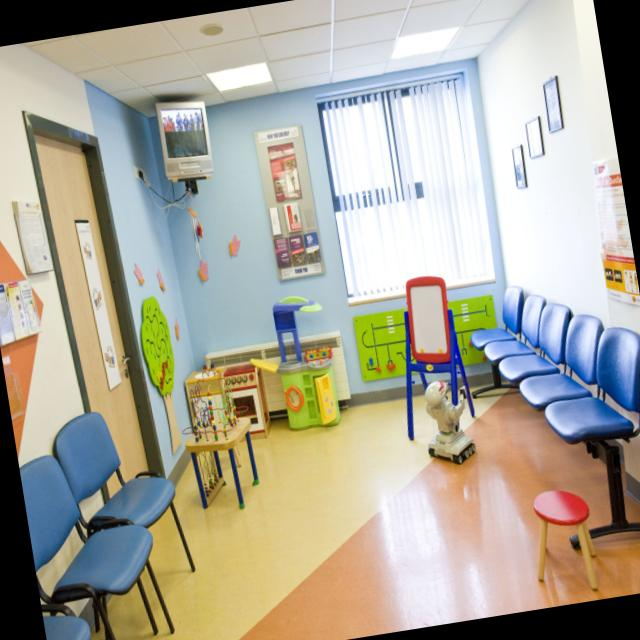Toy: (417, 376, 478, 469)
